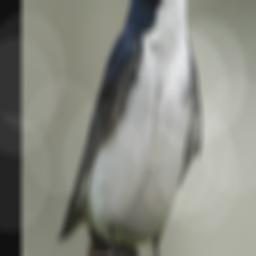Swallow: (57, 0, 204, 256)
